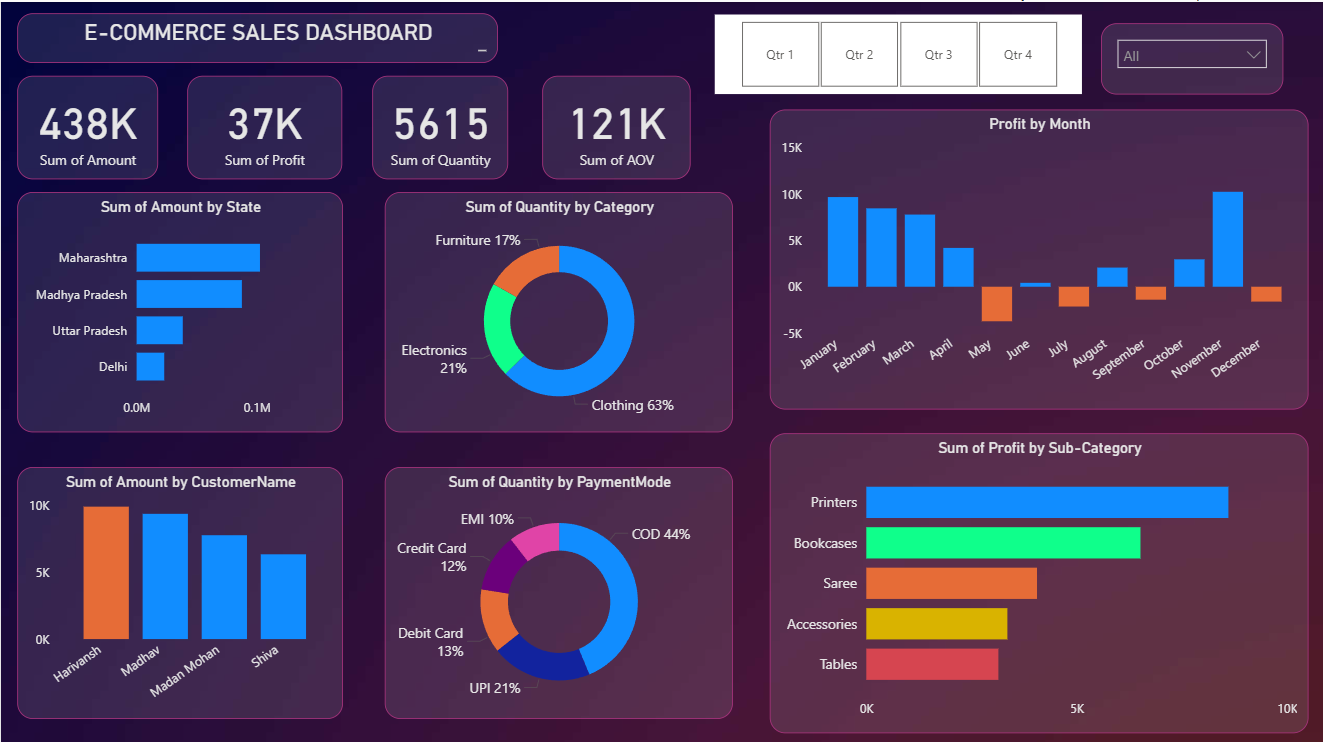

The page's visual inventory and layout, read from the dashboard file:
{"tool":"powerbi","page":{"name":"Page 1","canvas":[1280,720],"ordinal":0},"visuals":[{"type":"textbox","title":"E-COMMERCE SALES DASHBOARD","box":[15.1,11,463.8,48],"z":0},{"type":"columnChart","title":"Profit by Month","fields":{"Y":["Sum(Details.Profit)"],"Category":["Orders.Order Date.Variation.Date Hierarchy.Month"]},"box":[742.4,104.3,520.1,289.5],"z":1000},{"type":"barChart","fields":{"Category":["Details.Sub-Category"],"Y":["Sum(Details.Profit)"]},"box":[742.4,415.8,520.1,289.5],"z":2000},{"type":"donutChart","fields":{"Category":["Details.Category"],"Y":["Sum(Details.Quantity)"]},"box":[370.5,183.9,336.2,231.9],"z":3000},{"type":"donutChart","fields":{"Y":["Sum(Details.Quantity)"],"Category":["Details.PaymentMode"]},"box":[370.5,448.7,336.2,242.9],"z":4000},{"type":"card","fields":{"Values":["Sum(Details.Amount)"]},"box":[15.1,68.6,135.8,93.3],"z":5000},{"type":"card","fields":{"Values":["Sum(Details.Profit)"]},"box":[179.8,68.6,149.6,93.3],"z":6000},{"type":"card","fields":{"Values":["Sum(Details.Quantity)"]},"box":[358.1,68.6,131.7,93.3],"z":7000},{"type":"card","fields":{"Values":["Sum(Details.AOV)"]},"box":[517.3,68.6,160.5,93.3],"z":8000},{"type":"barChart","fields":{"Category":["Orders.State"],"Y":["Sum(Details.Amount)"]},"box":[15.1,183.9,314.2,231.9],"z":9000},{"type":"columnChart","fields":{"Category":["Orders.CustomerName"],"Y":["Sum(Details.Amount)"]},"box":[15.1,448.7,314.2,242.9],"z":10000},{"type":"slicer","fields":{"Values":["Orders.Order Date.Variation.Date Hierarchy.Quarter"]},"box":[688.9,12.3,354,76.8],"z":11000},{"type":"slicer","fields":{"Values":["Orders.State"]},"box":[1062.1,20.6,175.6,68.6],"z":11001}]}

Visuals, with their boxes in screenshot pixels (x1, y1, x2, y2), scaled from the page's 1280x720 canvas onto the 1323x742 screenshot:
"E-COMMERCE SALES DASHBOARD" textbox: (x1=16, y1=11, x2=495, y2=61)
"Profit by Month" columnChart: (x1=767, y1=107, x2=1305, y2=406)
barChart - Details.Sub-Category x Sum(Details.Profit): (x1=767, y1=429, x2=1305, y2=727)
donutChart - Details.Category x Sum(Details.Quantity): (x1=383, y1=190, x2=730, y2=429)
donutChart - Sum(Details.Quantity) x Details.PaymentMode: (x1=383, y1=462, x2=730, y2=713)
card - Sum(Details.Amount): (x1=16, y1=71, x2=156, y2=167)
card - Sum(Details.Profit): (x1=186, y1=71, x2=340, y2=167)
card - Sum(Details.Quantity): (x1=370, y1=71, x2=506, y2=167)
card - Sum(Details.AOV): (x1=535, y1=71, x2=701, y2=167)
barChart - Orders.State x Sum(Details.Amount): (x1=16, y1=190, x2=340, y2=429)
columnChart - Orders.CustomerName x Sum(Details.Amount): (x1=16, y1=462, x2=340, y2=713)
slicer - Orders.Order Date.Variation.Date Hierarchy.Quarter: (x1=712, y1=13, x2=1078, y2=92)
slicer - Orders.State: (x1=1098, y1=21, x2=1279, y2=92)
